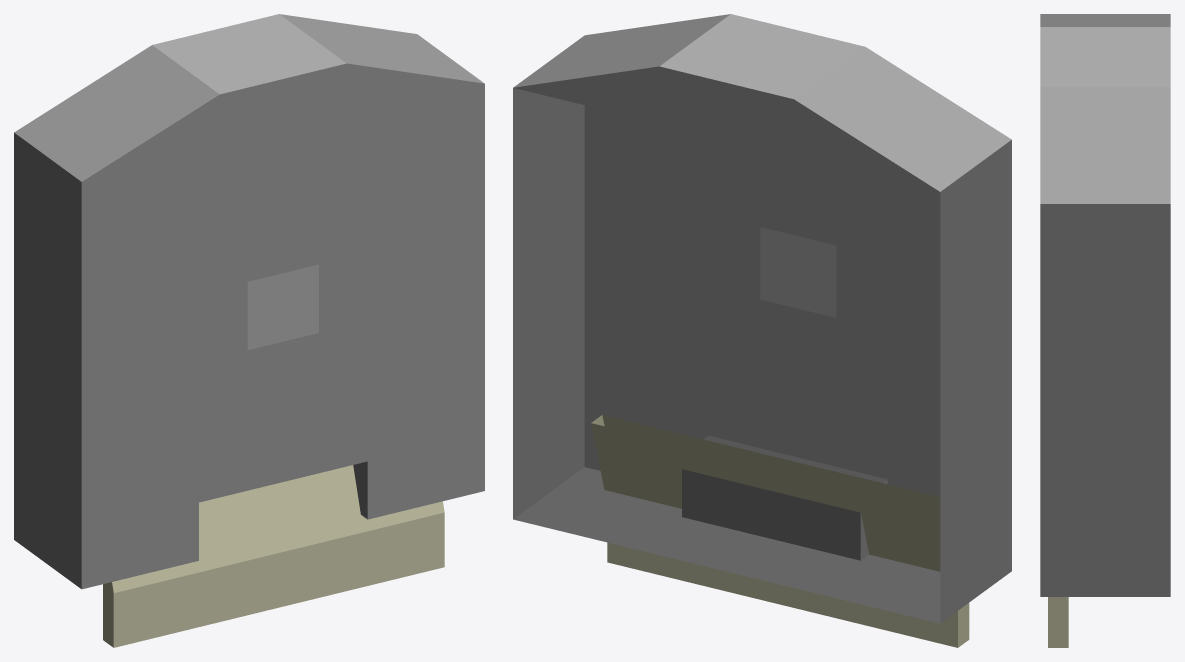
Rendered from SO_PaperTowelDispenser.fbx.
3 views of the same model, side by side, from view 1: azimuth 30°, elevation 25°; view 2: azimuth 150°, elevation 25°; view 3: azimuth 270°, elevation 25° (orthographic). The views are drawn at different scales.
Visible parts, largest first — view 1: SO_PaperTowelDispenser; view 2: SO_PaperTowelDispenser; view 3: SO_PaperTowelDispenser.
Part boxes in pixels (<box>): SO_PaperTowelDispenser: <box>14,14,484,647</box>; SO_PaperTowelDispenser: <box>513,14,1011,647</box>; SO_PaperTowelDispenser: <box>1040,14,1170,647</box>.
Bounding box in the file's own units: 0.6513 × 0.8207 × 0.1892.
